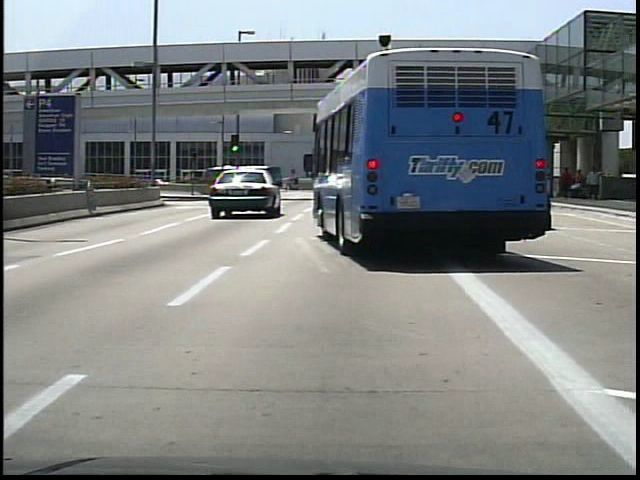person: (584, 166, 603, 199), (560, 165, 572, 200), (574, 168, 585, 199), (290, 175, 301, 194), (281, 174, 292, 191)
